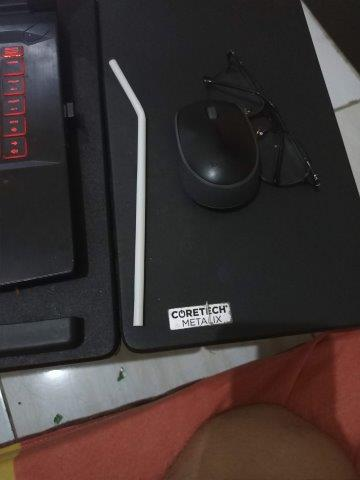sedotan: (108, 59, 147, 325)
